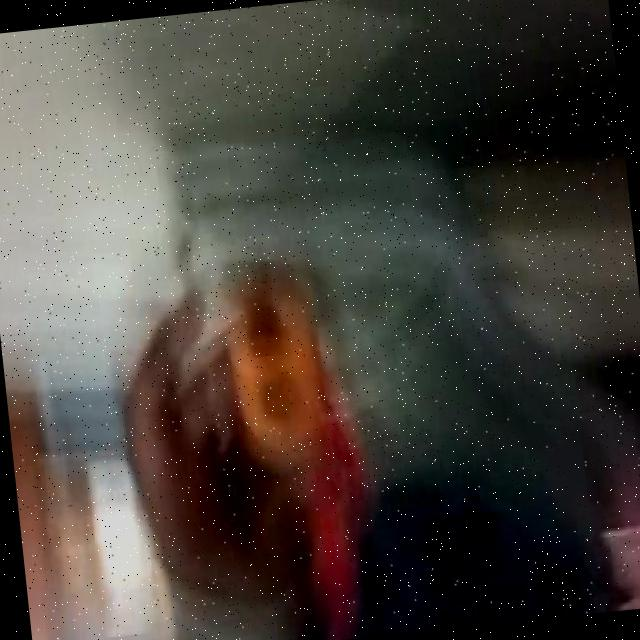ping-pong-ball: (218, 300, 332, 458)
